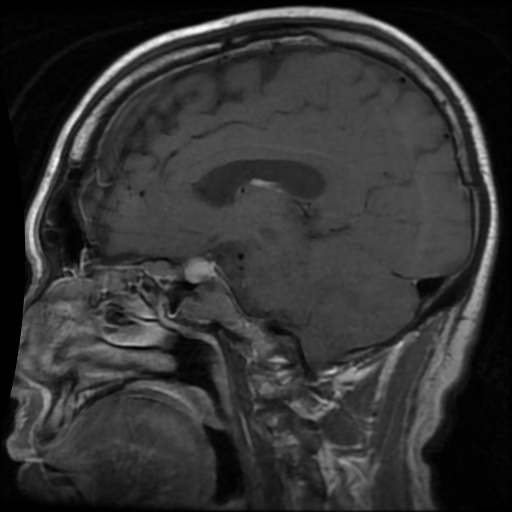pituitary: (186, 257, 218, 282)
